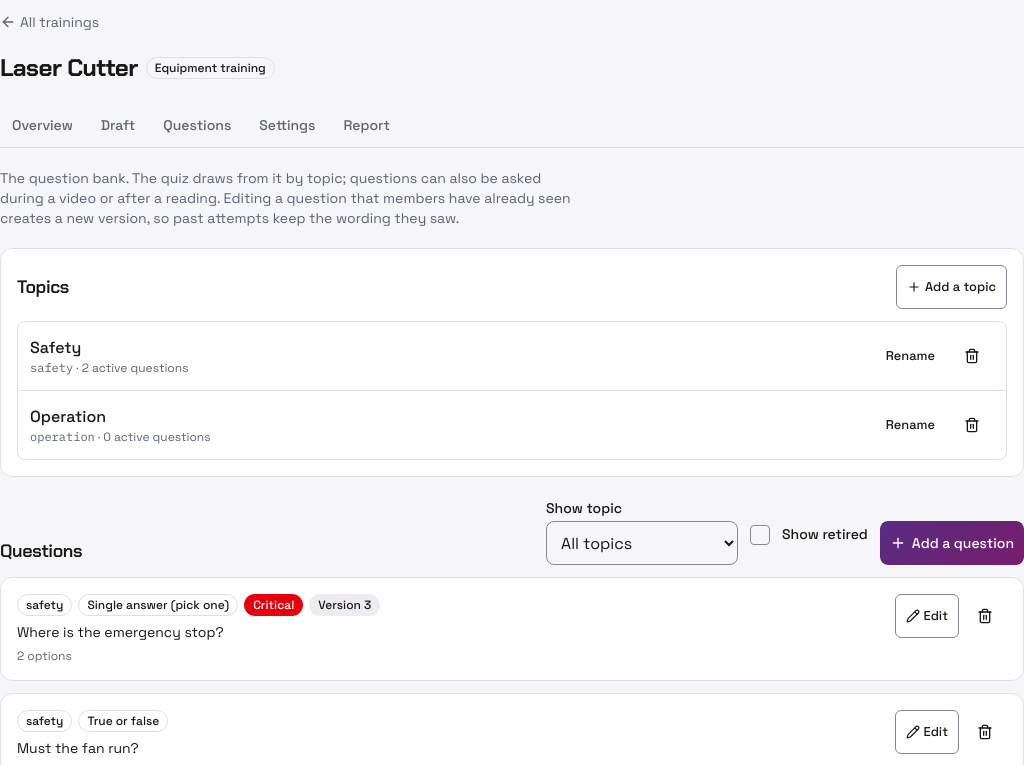
it: QuestionsManager › filters by topic and can show retired questions
This screenshot has width=1024, height=765.
Expected: the heading "Laser Cutter" is shown, [0, 52, 138, 84]
Expected: the text "Where is the emergency stop?" is shown, [17, 623, 224, 641]
Select "Operation" in the dropdown labelled "Show topic" at (642, 543), box [546, 521, 738, 565]
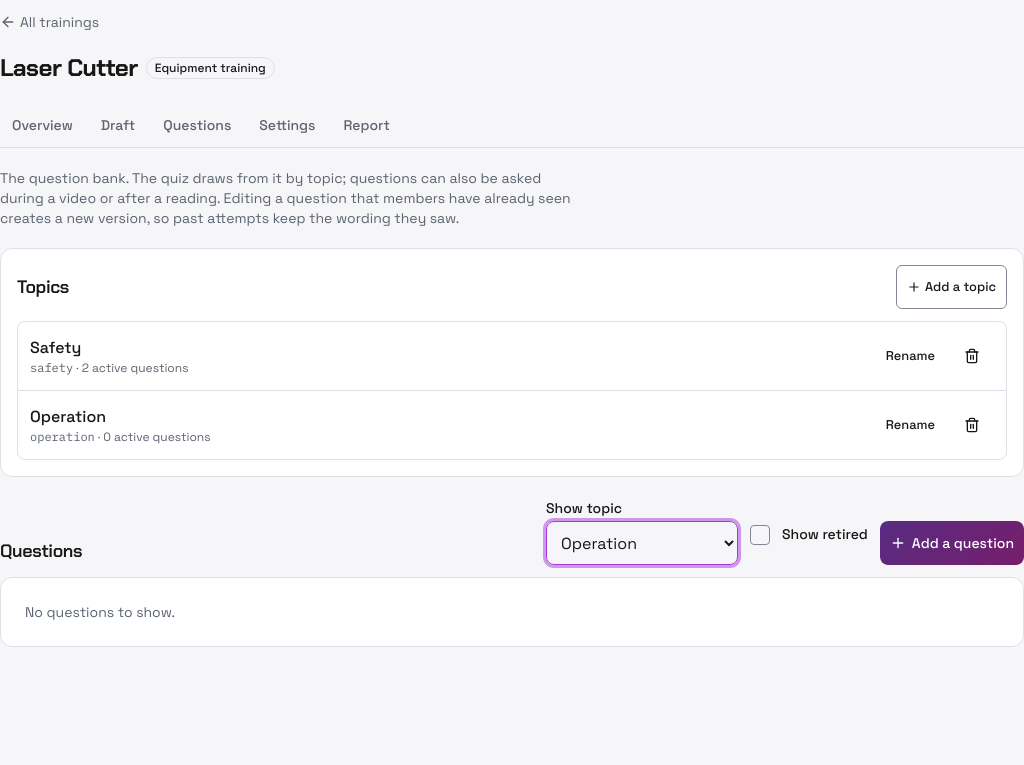
Expected: the text "Must the fan run?" is gone
Expected: the text "No questions to show." is shown, [0, 577, 1023, 647]
Click the checkbox named "show retired".
click(760, 535)  # box [750, 525, 770, 545]
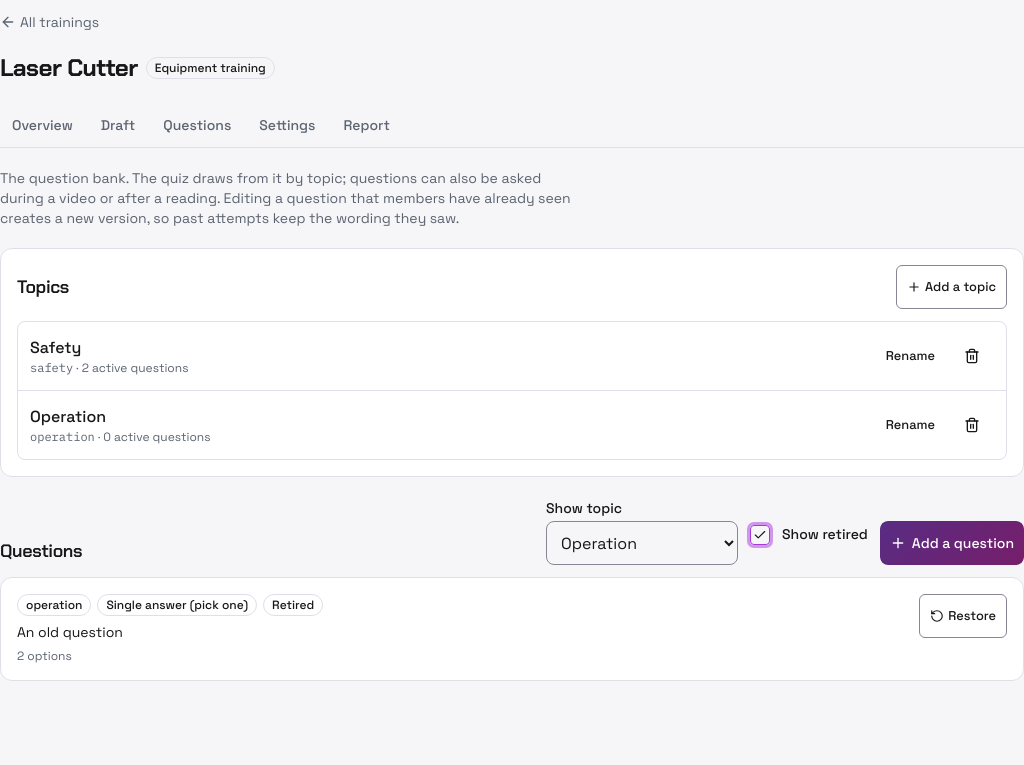
Expected: the text "An old question" is shown, [17, 623, 123, 641]
Expected: the text "Retired" is shown, [263, 594, 323, 616]
